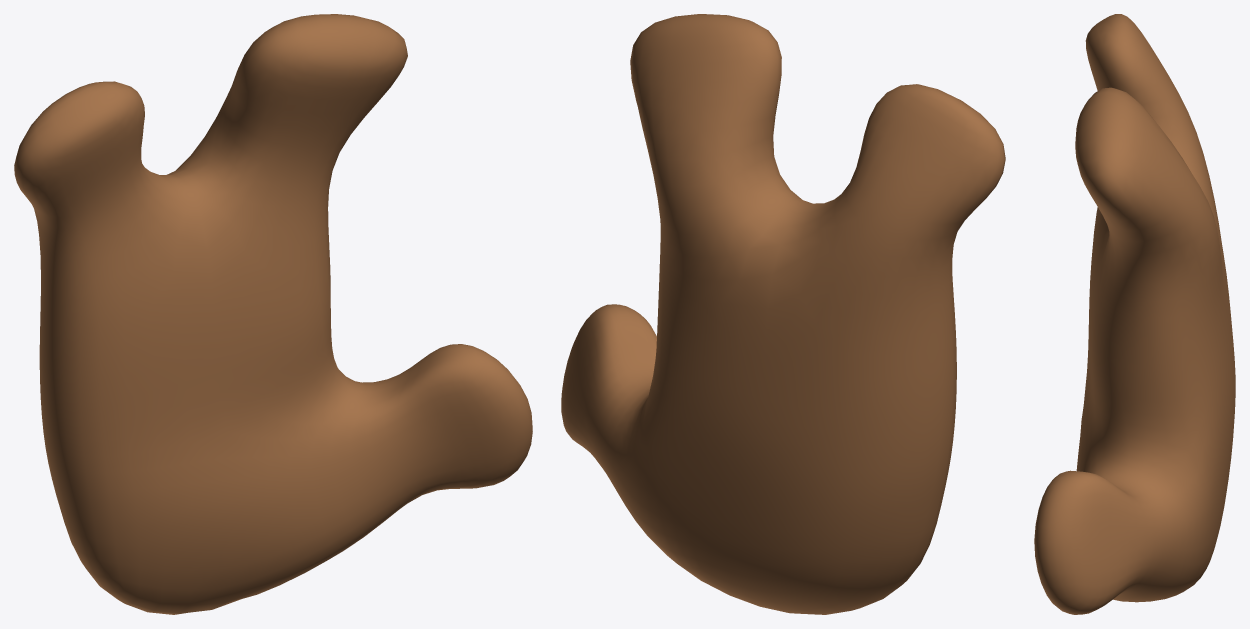
The model's file is Frog Extremity.fbx.
3 renders of one model, left to right at view 1: azimuth 30°, elevation 25°; view 2: azimuth 150°, elevation 25°; view 3: azimuth 270°, elevation 25°, orthographic. The views are drawn at different scales.
Parts seen in each view (by area): view 1: Frog Extremity - Xotik; view 2: Frog Extremity - Xotik; view 3: Frog Extremity - Xotik.
Part boxes in pixels (x1,y1,x2,y2): Frog Extremity - Xotik: (14, 14, 532, 614); Frog Extremity - Xotik: (561, 14, 1005, 614); Frog Extremity - Xotik: (1034, 14, 1235, 614).
Size of the model in its own units: 67.69 by 77.67 by 27.06.
